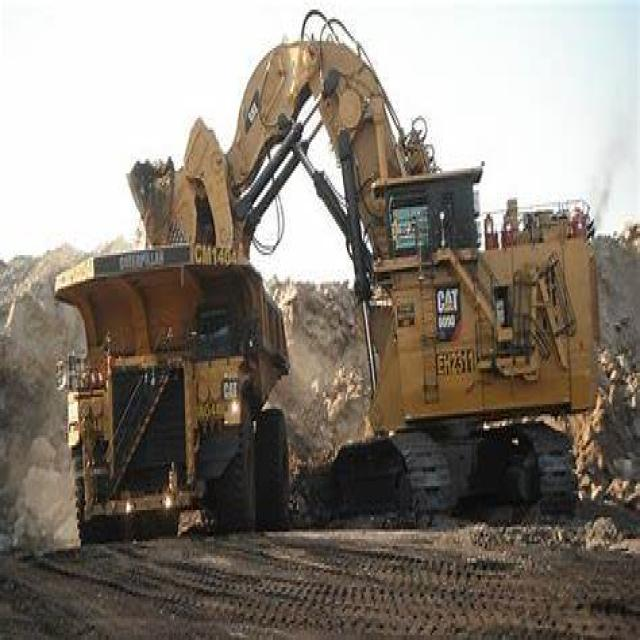dump_truck: (42, 231, 316, 546)
excavator: (131, 7, 622, 544)
